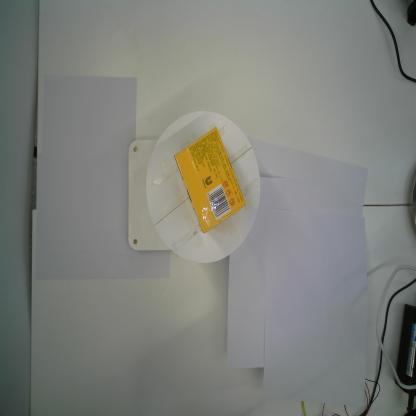Instant Drink: (174, 126, 245, 235)
